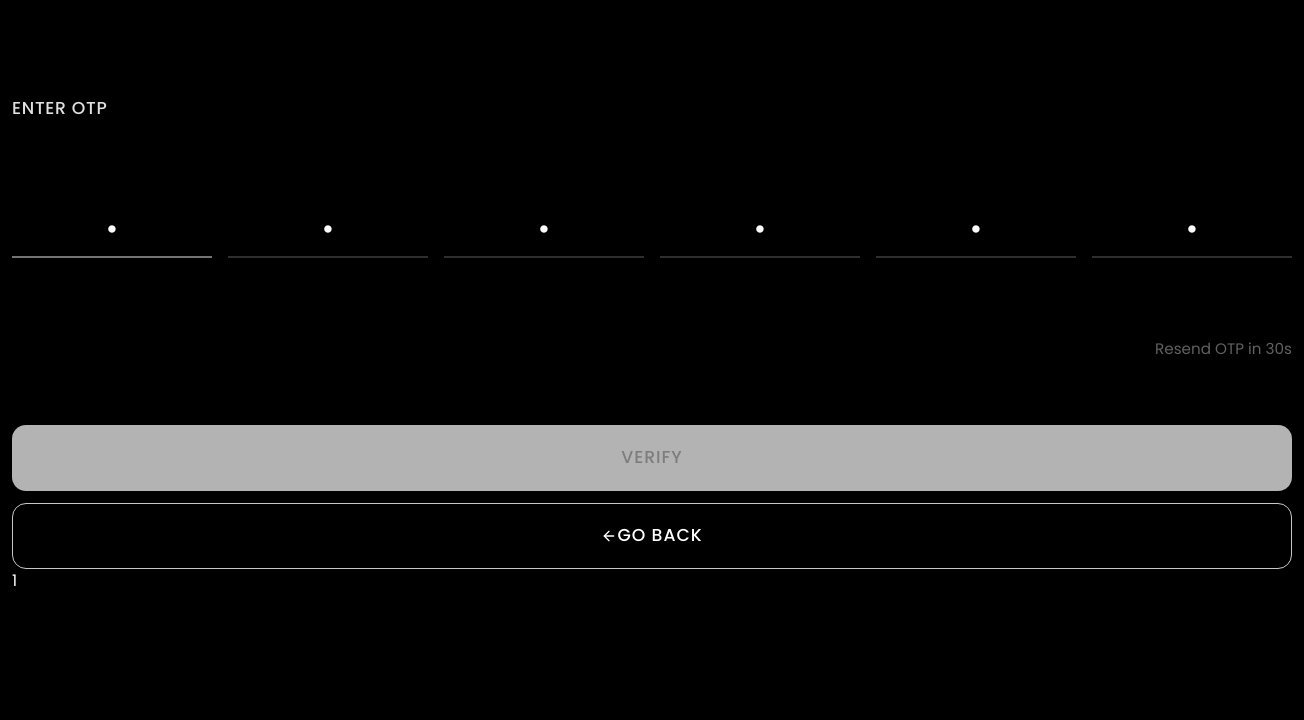
Scenario: OtpStep › shows an inline error for an invalid code and stays on the step
In the field named "Digit 1 of 6": (112, 230) x1=12 y1=202 x2=212 y2=258, type "1"
In the field named "Digit 2 of 6": (328, 230) x1=228 y1=202 x2=428 y2=258, type "2"
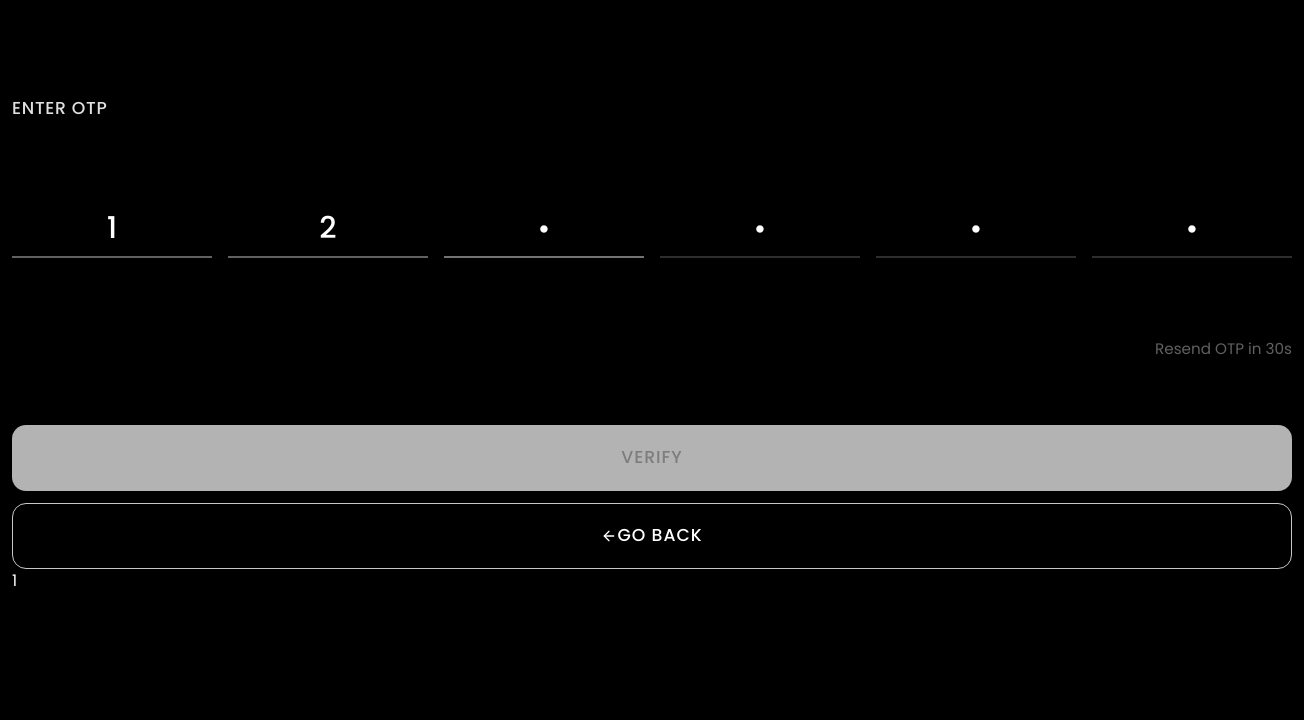
In the field named "Digit 3 of 6": (544, 230) x1=444 y1=202 x2=644 y2=258, type "3"
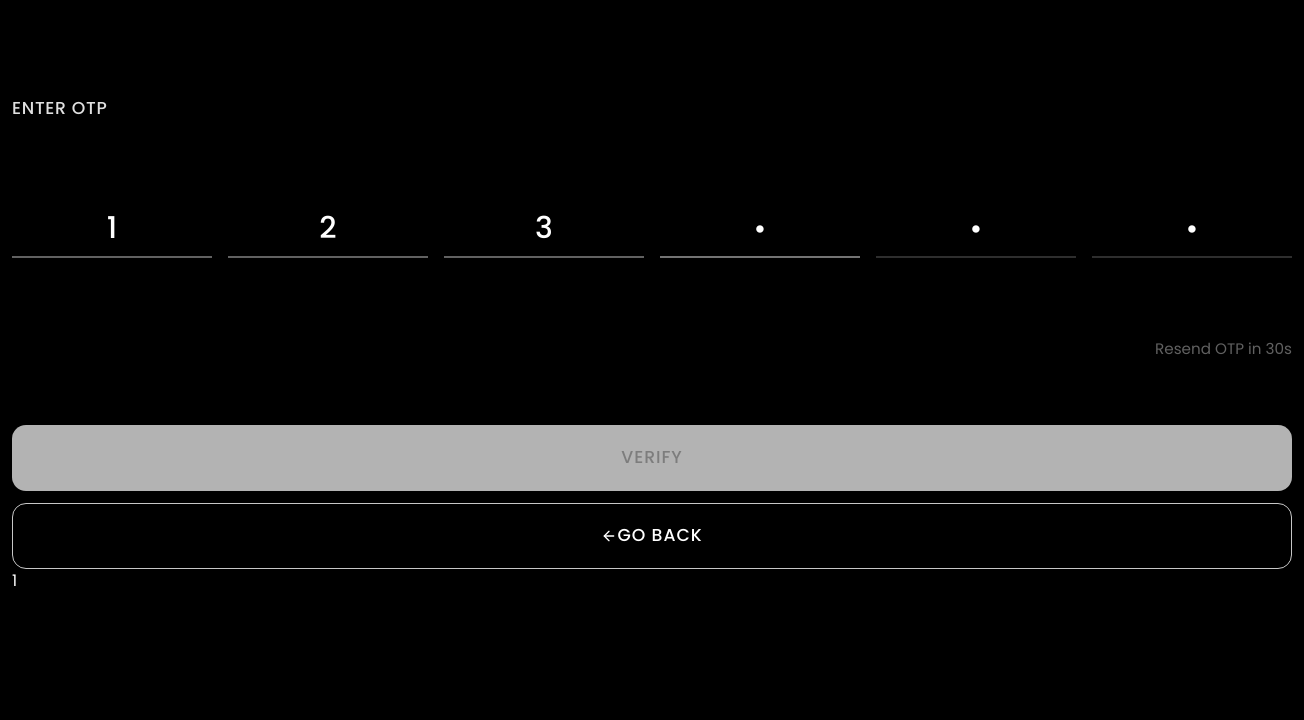
In the field named "Digit 4 of 6": (760, 230) x1=660 y1=202 x2=860 y2=258, type "4"
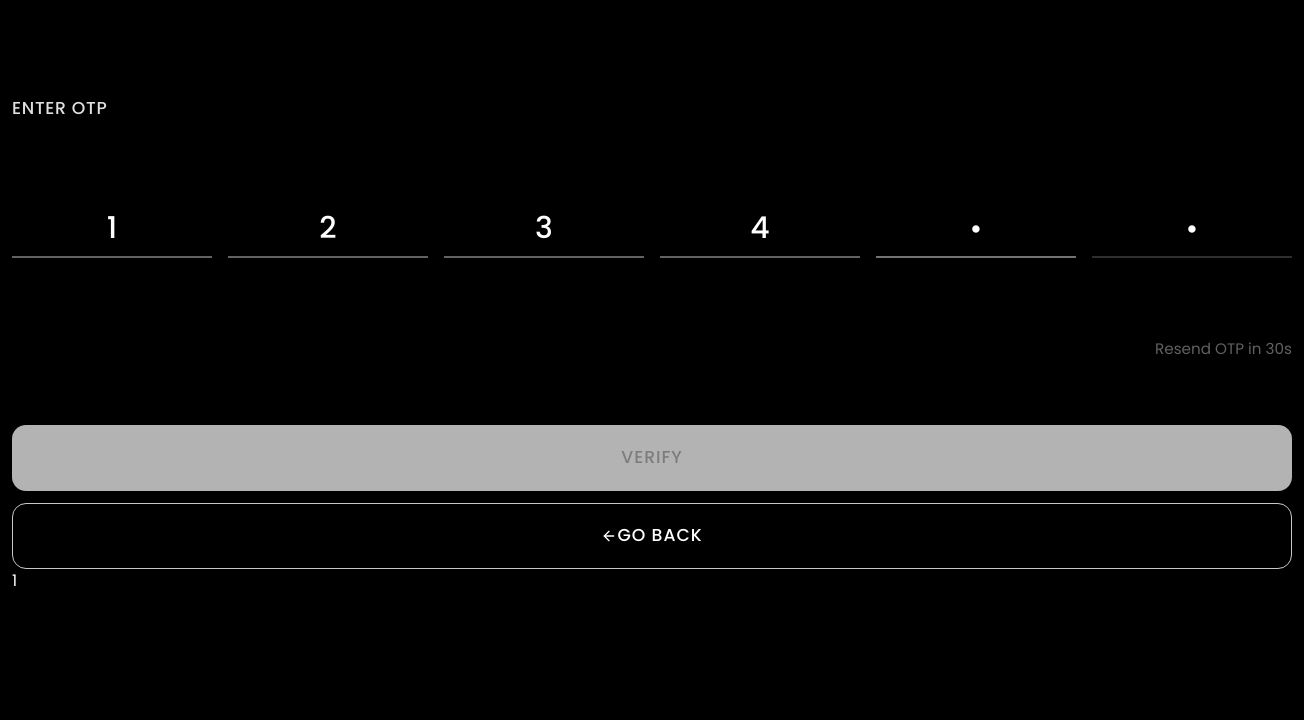
In the field named "Digit 5 of 6": (976, 230) x1=876 y1=202 x2=1076 y2=258, type "5"
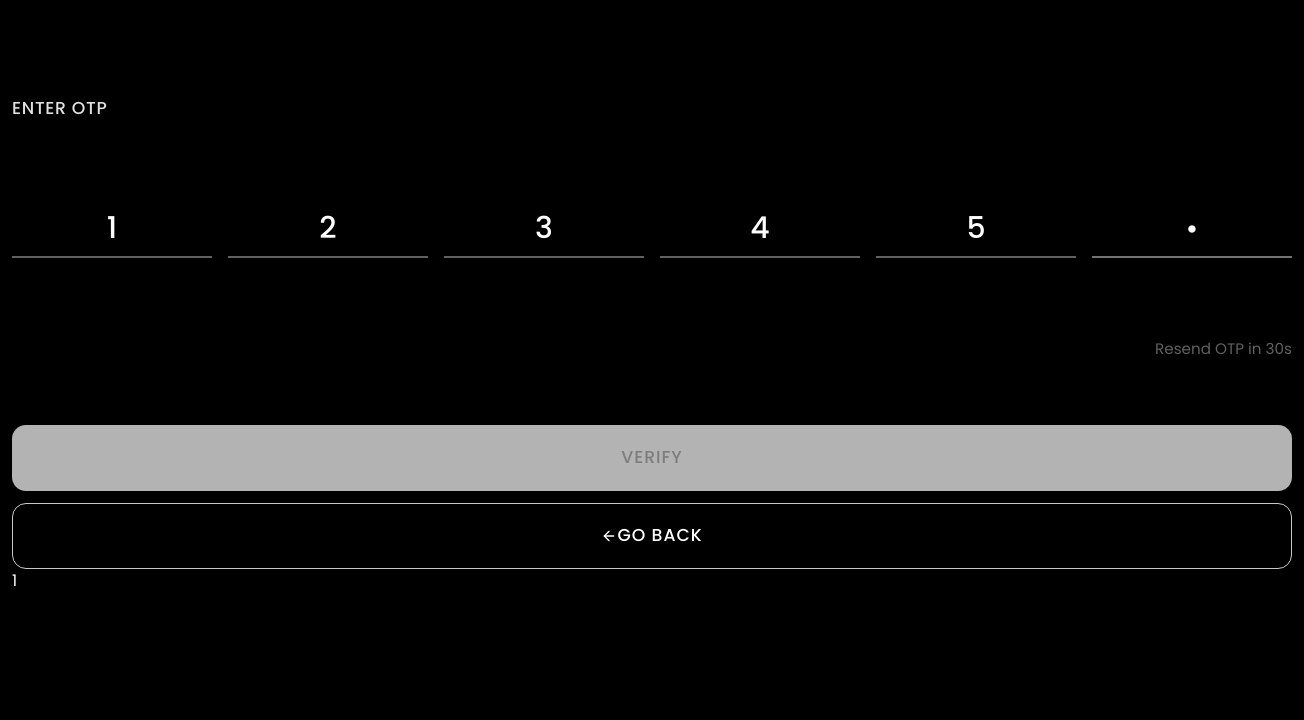
In the field named "Digit 6 of 6": (1192, 230) x1=1092 y1=202 x2=1292 y2=258, type "6"
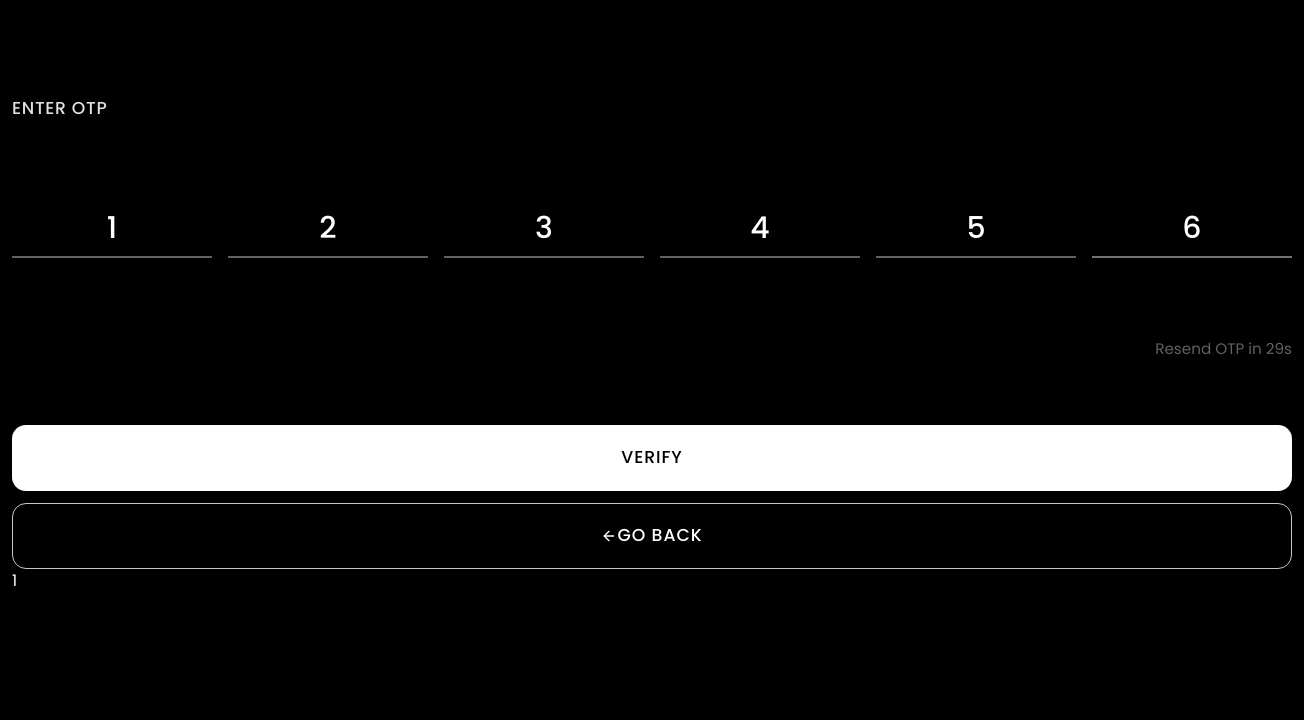
Click the button "VERIFY": (652, 458) x1=12 y1=425 x2=1292 y2=491
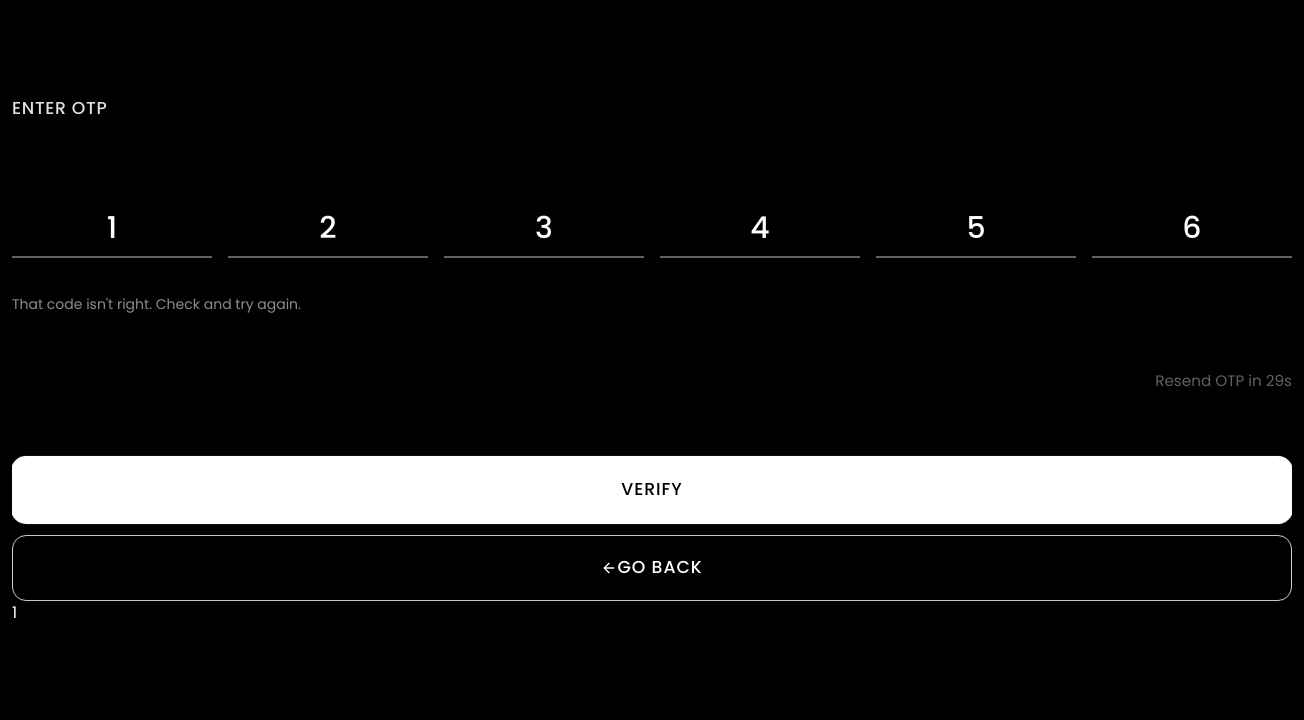
Expected: the text with test id "step-index" reads "1", x1=12 y1=601 x2=17 y2=624
Now the text "That code isn't right. Check and try again." is shown, box x1=12 y1=294 x2=301 y2=314
